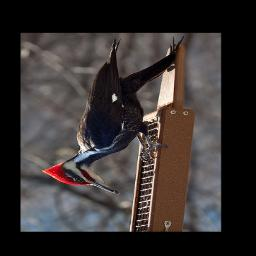Woodpecker: (40, 36, 185, 195)
